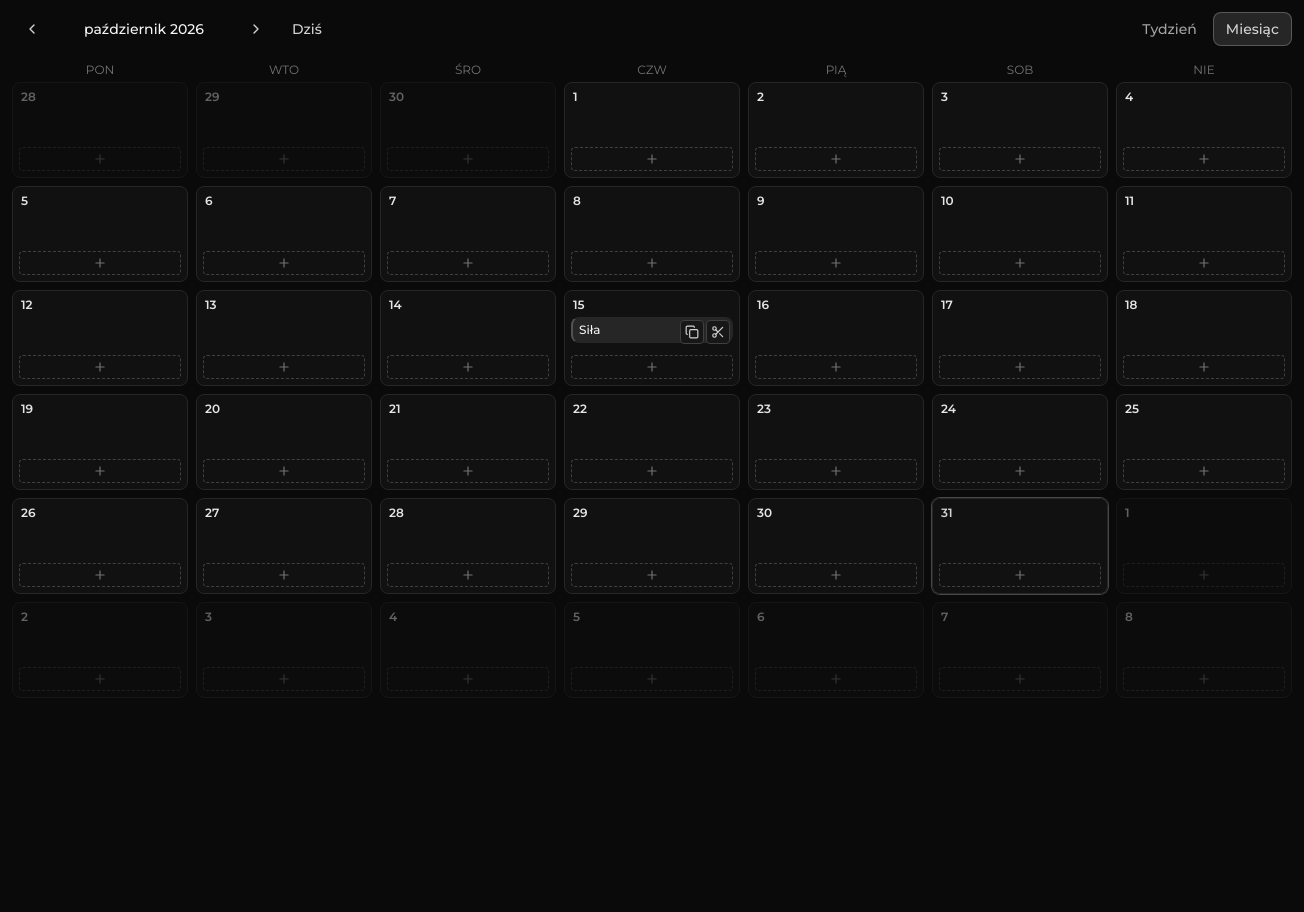
Test: TrainingCalendar › keeps the grid standing while paging to a page that is not cached yet
Expected: the text "Siła" is shown, x1=579 y1=322 x2=600 y2=338
Click the button named "Następny okres". click: (256, 29)
box: x1=236 y1=15 x2=276 y2=43
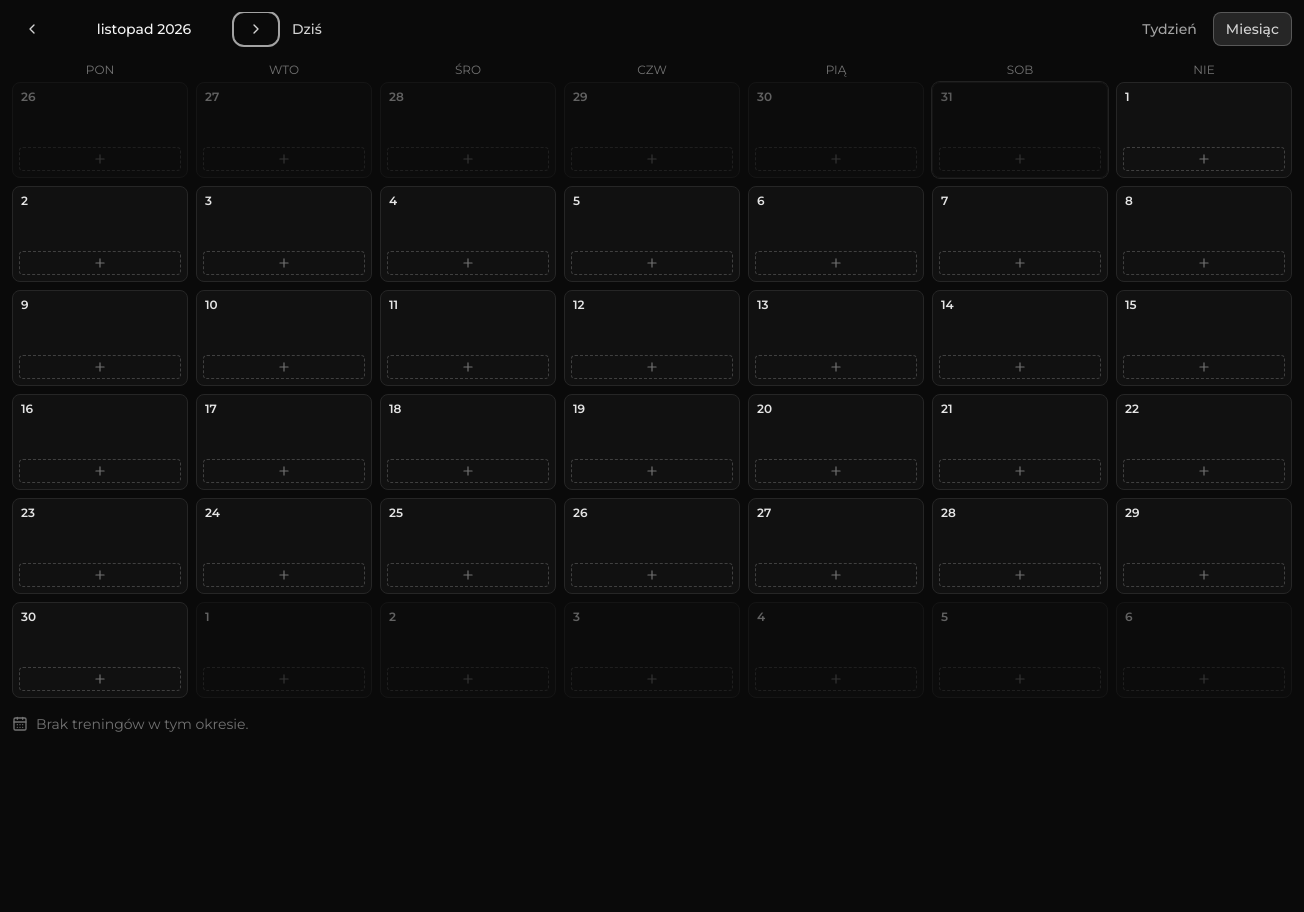
Result: the button "Siła" is gone
